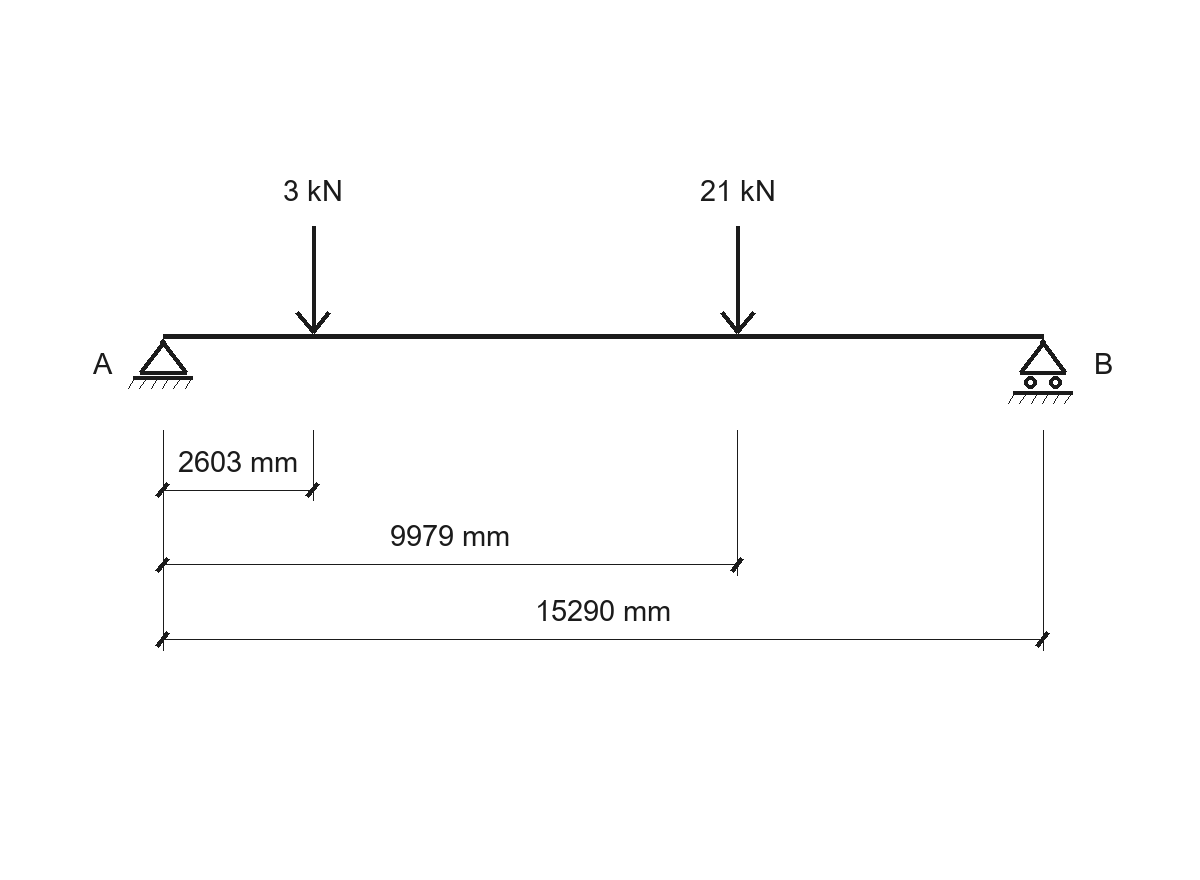pin_support: (128, 339, 193, 389)
point_load: (295, 226, 331, 334), (720, 226, 756, 334)
roller_support: (1008, 339, 1073, 404)
